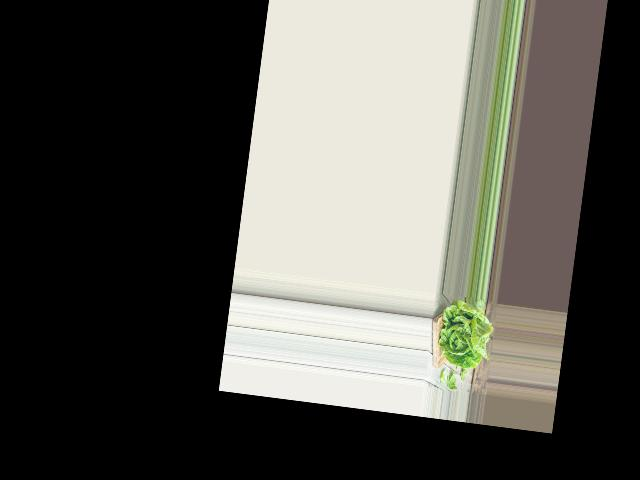lettuce: (433, 296, 495, 368)
